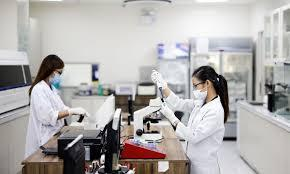Bata-Correcta: (152, 66, 228, 173), (26, 54, 88, 160)
